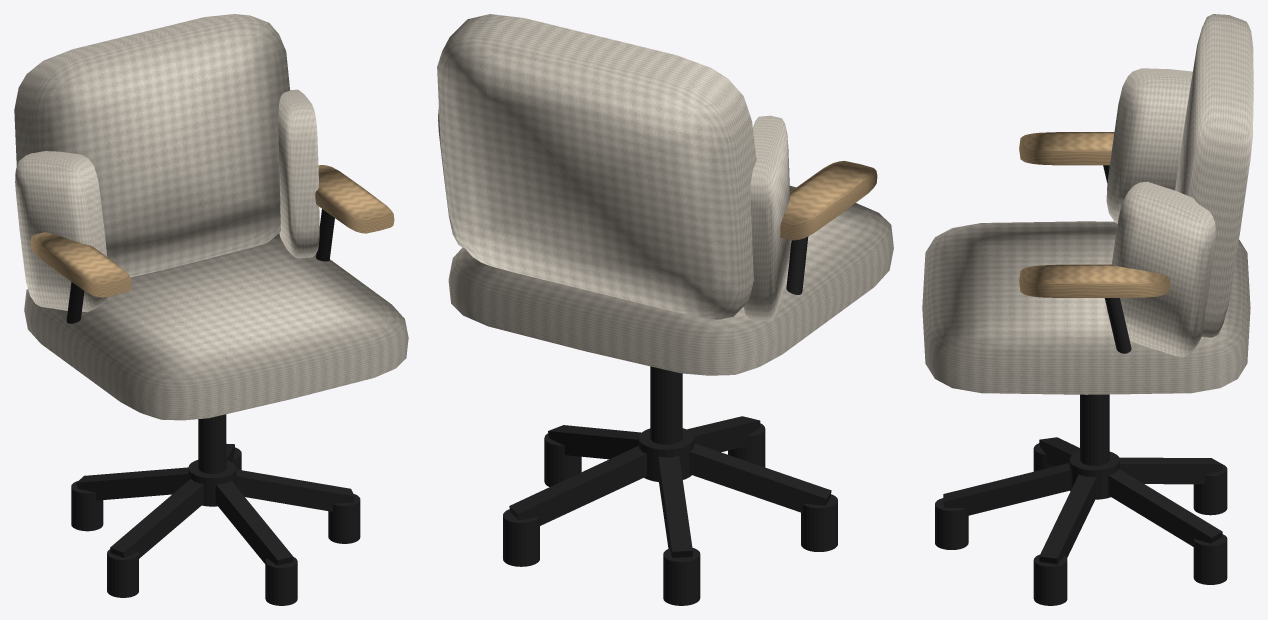
3 views of the same model, side by side, from view 1: azimuth 30°, elevation 25°; view 2: azimuth 150°, elevation 25°; view 3: azimuth 270°, elevation 25° (orthographic). The views are drawn at different scales.
Visible parts, largest first — view 1: 2 backrest, 1 seat, 3 backrest_side_left, 4 backrest_side_right, 5 armrest_left, 6 armrest_right, 13 base_spoke_2, 16 base_spoke_5, 12 base_spoke_1, 15 base_spoke_4, 10 gas_lift_column, 17 wheel_1 (+6 smaller); view 2: 2 backrest, 1 seat, 3 backrest_side_left, 5 armrest_left, 16 base_spoke_5, 14 base_spoke_3, 15 base_spoke_4, 10 gas_lift_column, 13 base_spoke_2, 20 wheel_4, 19 wheel_3, 21 wheel_5 (+5 smaller); view 3: 1 seat, 2 backrest, 4 backrest_side_right, 3 backrest_side_left, 6 armrest_right, 12 base_spoke_1, 14 base_spoke_3, 5 armrest_left, 13 base_spoke_2, 15 base_spoke_4, 10 gas_lift_column, 18 wheel_2 (+6 smaller).
Boxes of the visible parts, x1,y1,x2,y2 form: 2 backrest: (14, 14, 289, 277); 1 seat: (24, 233, 408, 420); 3 backrest_side_left: (15, 151, 107, 312); 4 backrest_side_right: (278, 89, 319, 258); 5 armrest_left: (30, 232, 131, 297); 6 armrest_right: (315, 165, 394, 233); 13 base_spoke_2: (236, 469, 354, 511); 16 base_spoke_5: (110, 479, 204, 558); 12 base_spoke_1: (215, 480, 293, 565); 15 base_spoke_4: (76, 467, 188, 500); 10 gas_lift_column: (198, 414, 226, 473); 17 wheel_1: (265, 557, 297, 605); 2 backrest: (437, 14, 756, 319); 1 seat: (448, 185, 893, 375); 3 backrest_side_left: (743, 115, 790, 321); 5 armrest_left: (780, 161, 877, 240); 16 base_spoke_5: (689, 443, 831, 512); 14 base_spoke_3: (509, 446, 646, 525); 15 base_spoke_4: (658, 455, 692, 557); 10 gas_lift_column: (650, 366, 682, 444); 13 base_spoke_2: (548, 425, 641, 459); 20 wheel_4: (663, 547, 700, 605); 19 wheel_3: (503, 509, 539, 566); 21 wheel_5: (801, 494, 837, 551); 1 seat: (922, 221, 1250, 394); 2 backrest: (1175, 14, 1253, 337); 4 backrest_side_right: (1106, 181, 1215, 356); 3 backrest_side_left: (1106, 68, 1192, 223); 6 armrest_right: (1019, 264, 1170, 297); 12 base_spoke_1: (943, 463, 1071, 516); 14 base_spoke_3: (1108, 469, 1222, 546); 5 armrest_left: (1019, 132, 1114, 165); 13 base_spoke_2: (1039, 474, 1096, 564); 15 base_spoke_4: (1119, 457, 1222, 484); 10 gas_lift_column: (1080, 394, 1109, 465); 18 wheel_2: (1033, 554, 1067, 605).
Size of the model in its own units: 0.68 by 1 by 0.62.
Materials: 4 (2 with a texture image).
